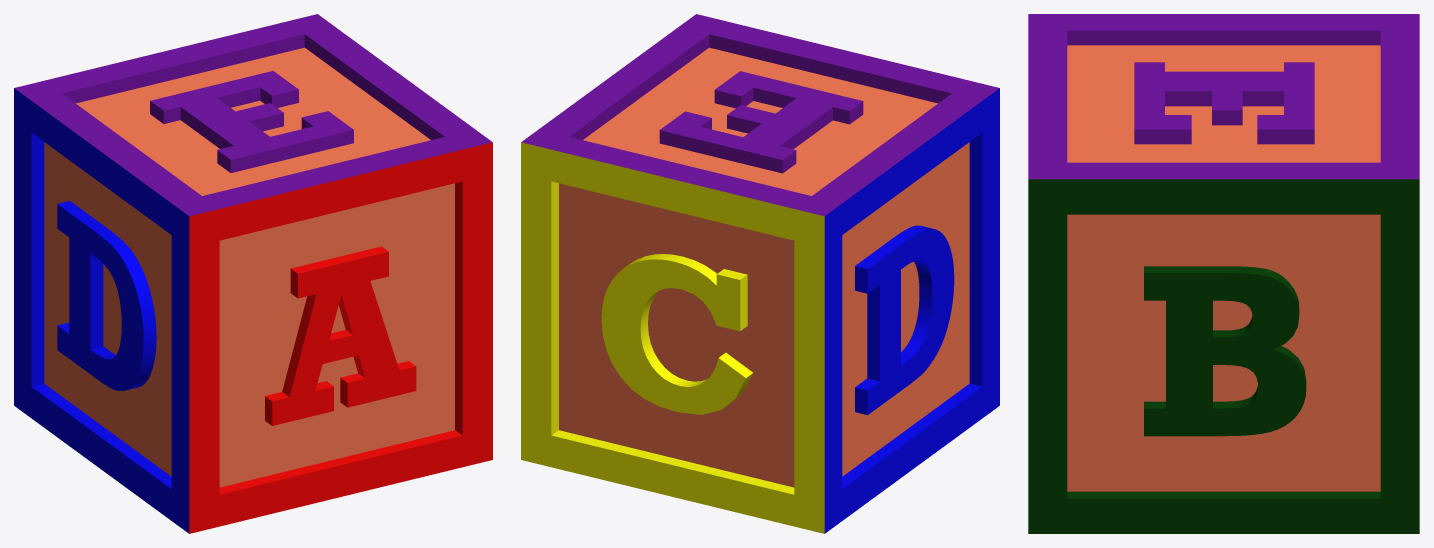
Rendered from sm_alphabetcubes.fbx.
3 renders of one model, left to right at view 1: azimuth 30°, elevation 25°; view 2: azimuth 150°, elevation 25°; view 3: azimuth 270°, elevation 25°, orthographic. The views are drawn at different scales.
Parts seen in each view (by area): view 1: cube_low (×4); view 2: cube_low (×4); view 3: cube_low (×3).
Boxes of the visible parts, x1=… form: cube_low (×4): x1=14, y1=14, x2=492, y2=533; cube_low (×4): x1=521, y1=14, x2=999, y2=533; cube_low (×3): x1=1028, y1=14, x2=1419, y2=533.
Bounding box in the file's own units: 49.4 × 49.4 × 49.4.
